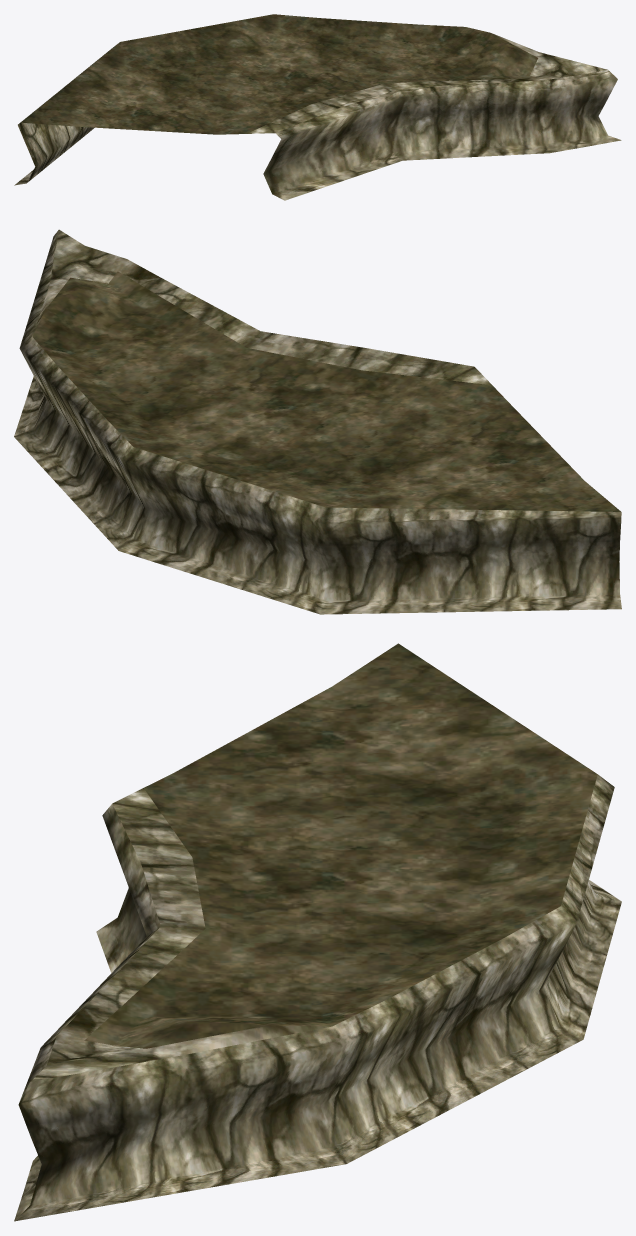
Rendered from CB_NEWPLAYSURFACE_CB_PLAYSURFACE160.fbx.
3 views of the same model, one above another, from view 1: azimuth 30°, elevation 25°; view 2: azimuth 150°, elevation 25°; view 3: azimuth 270°, elevation 25° (orthographic). The views are drawn at different scales.
Parts seen in each view (by area): view 1: CB_NEWPLAYSURFACE_CB_PLAYSURFACE160; view 2: CB_NEWPLAYSURFACE_CB_PLAYSURFACE160; view 3: CB_NEWPLAYSURFACE_CB_PLAYSURFACE160.
Boxes of the visible parts, bbox=[...] form: CB_NEWPLAYSURFACE_CB_PLAYSURFACE160: bbox=[14, 14, 621, 200]; CB_NEWPLAYSURFACE_CB_PLAYSURFACE160: bbox=[14, 229, 621, 614]; CB_NEWPLAYSURFACE_CB_PLAYSURFACE160: bbox=[14, 643, 621, 1221].
Size of the model in its own units: 249858 by 35112 by 139421.
3 materials, 3 textured.
